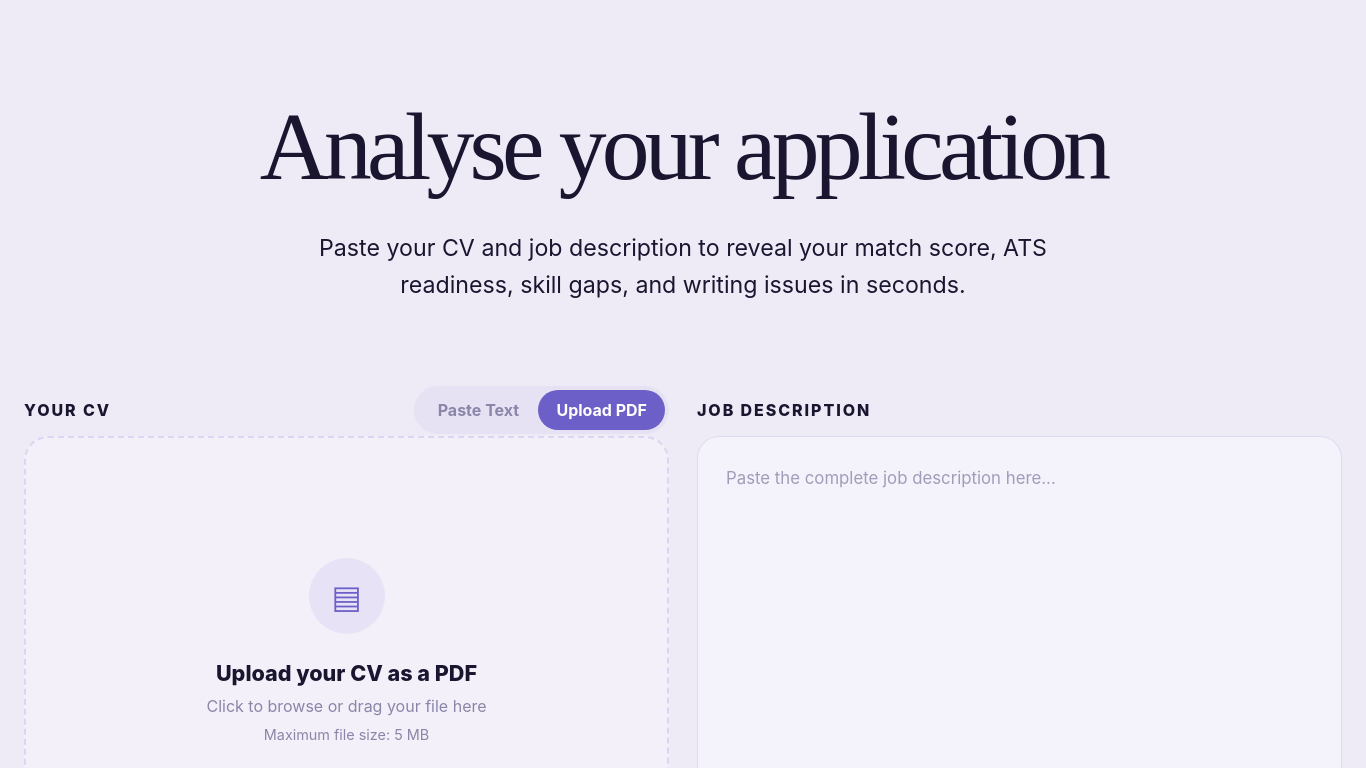
App › shows validation when pasted CV text is too short
The image size is (1366, 768).
Click the button "Paste Text". click: (478, 410)
box: [418, 390, 538, 430]
(page scrolled)
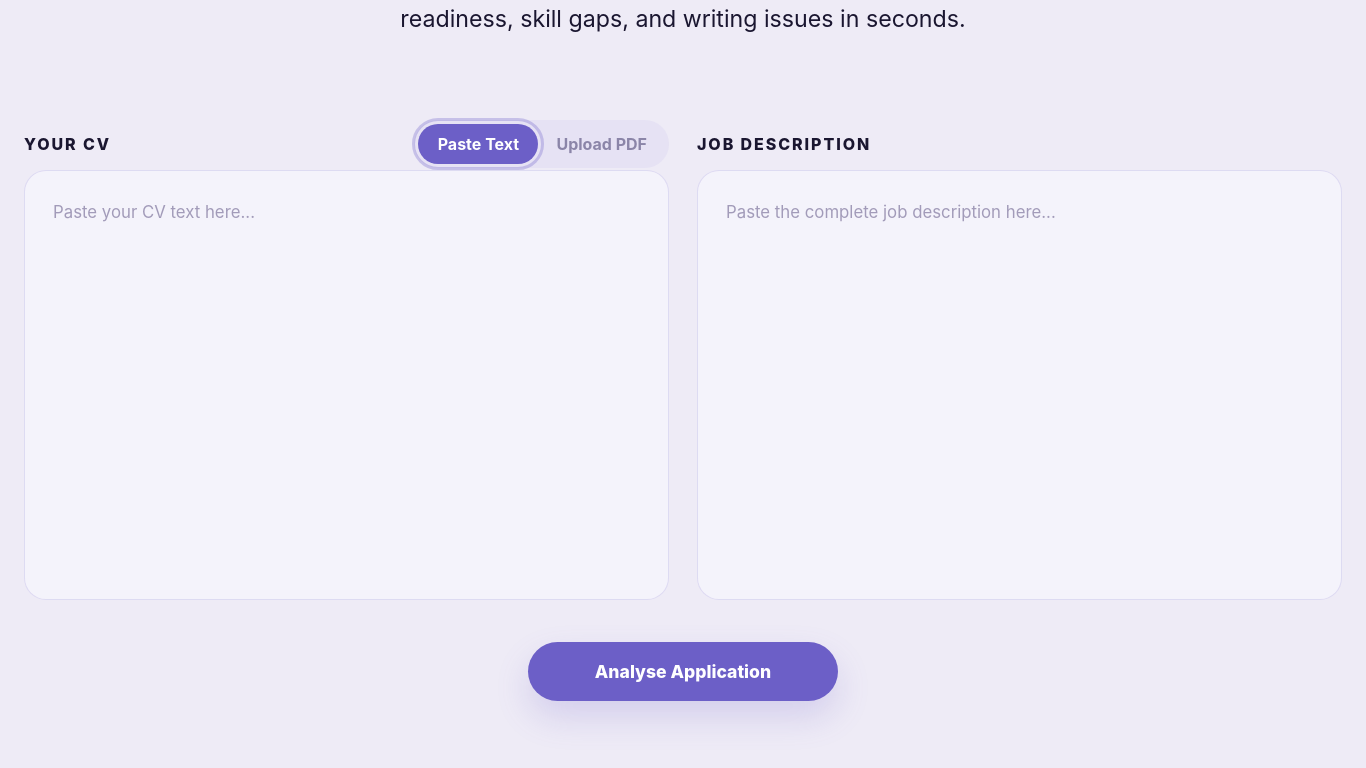
Type "We are looking for a Python and FastAPI developer." into the text box labelled "Paste the complete job description here...". click: (1020, 385)
box: [697, 170, 1342, 600]
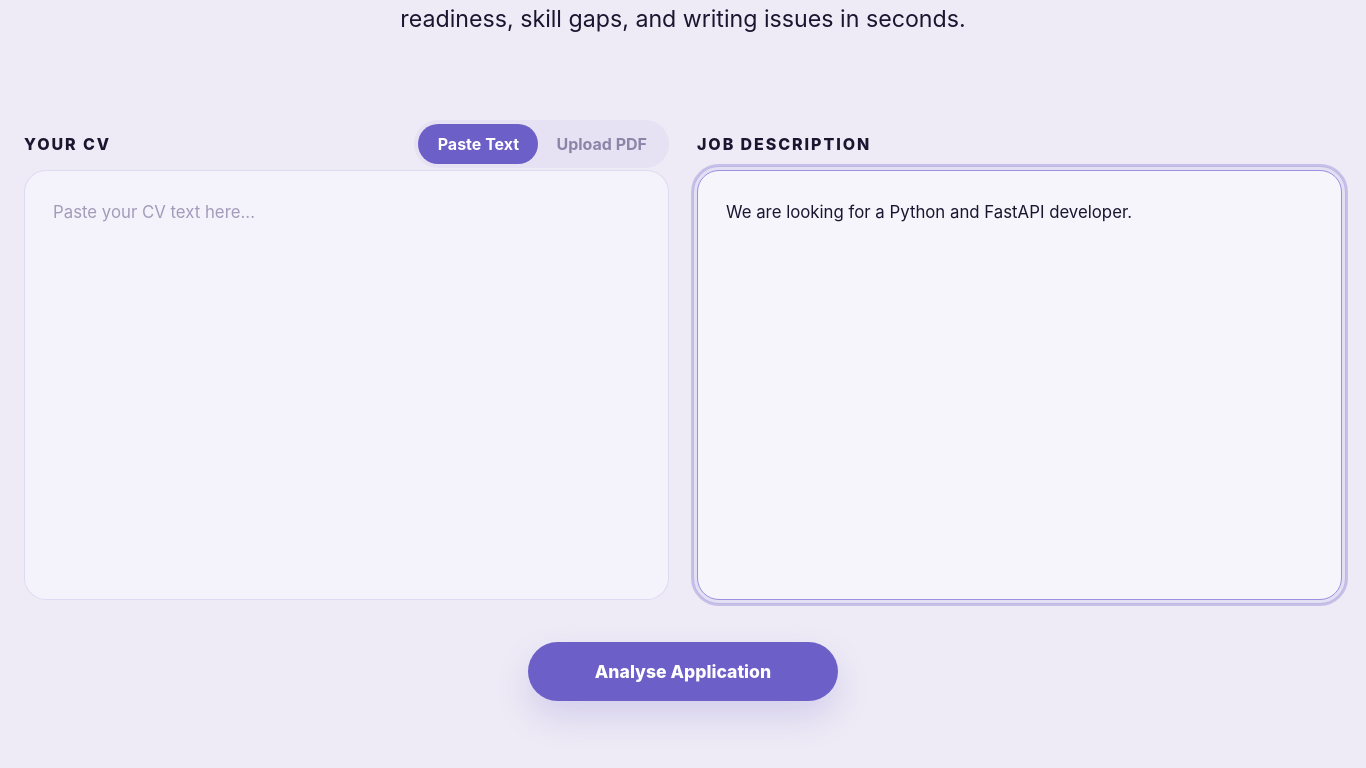
Type "Python" into the text box labelled "Paste your CV text here...". click: (346, 385)
box: [24, 170, 669, 600]
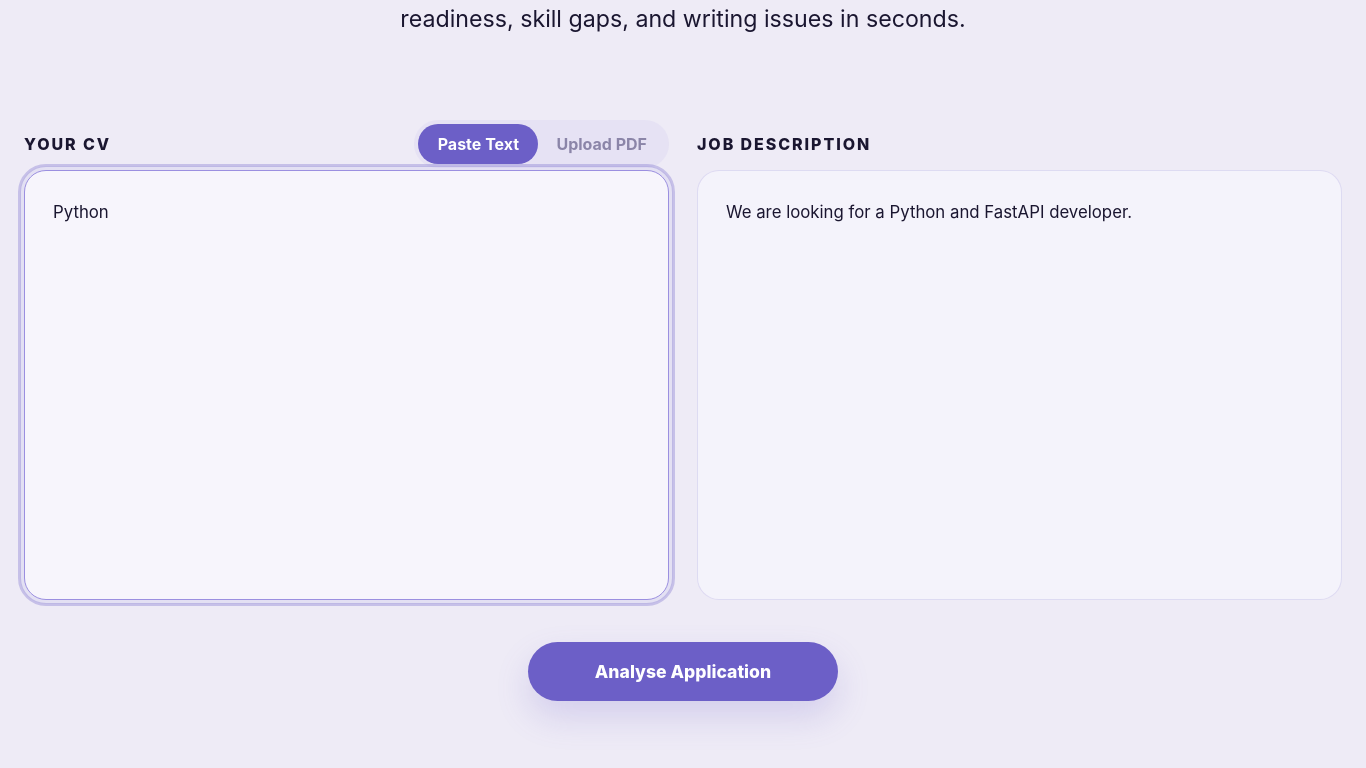
Click the button "Analyse Application". click: (683, 671)
box: [528, 642, 838, 701]
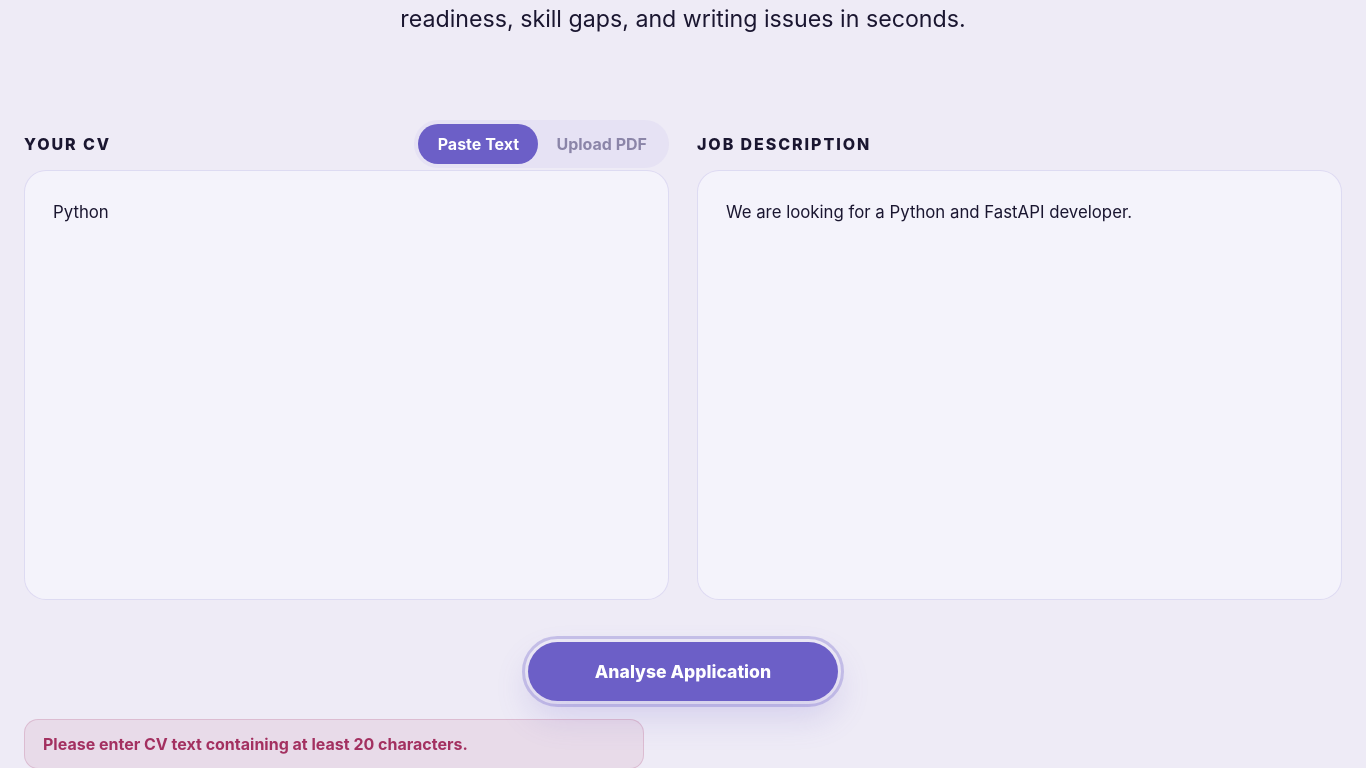
Expected: the message reads "Please enter CV text containing at least 20 characters.", [43, 734, 468, 754]
